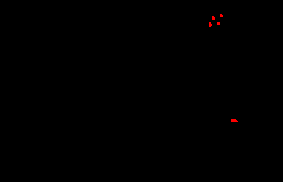Target: (231, 119, 238, 122), (209, 22, 212, 27), (212, 16, 215, 20), (220, 14, 223, 17), (217, 22, 220, 25)
